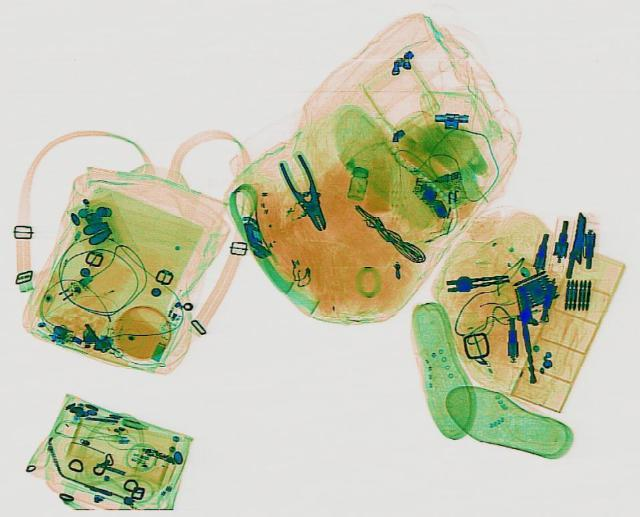Pliers: (272, 152, 336, 234)
